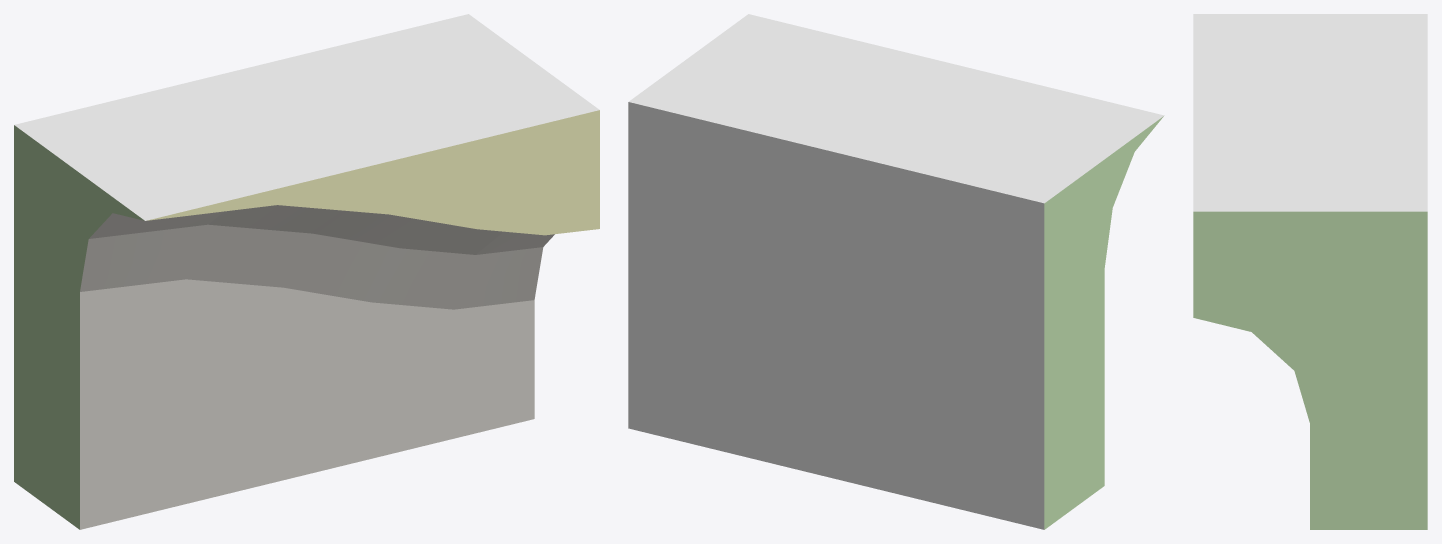
File: Wall_Incline_2x4_Top.glb
3 renders of one model, left to right at view 1: azimuth 30°, elevation 25°; view 2: azimuth 150°, elevation 25°; view 3: azimuth 270°, elevation 25°, orthographic. The views are drawn at different scales.
Parts seen in each view (by area): view 1: Wall_Incline_2x4_Top; view 2: Wall_Incline_2x4_Top; view 3: Wall_Incline_2x4_Top.
Boxes of the visible parts, x1,y1,x2,y2 form: Wall_Incline_2x4_Top: (14,14,599,529); Wall_Incline_2x4_Top: (628,14,1164,529); Wall_Incline_2x4_Top: (1193,14,1427,529).
Size of the model in its own units: 400 by 300 by 200.
